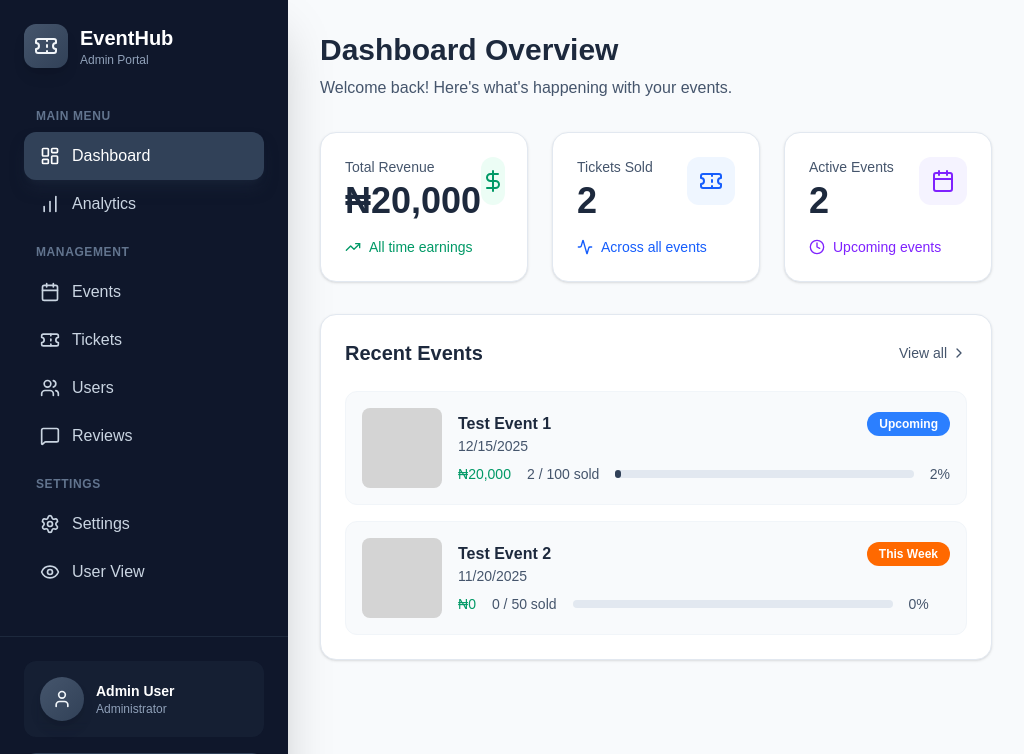
Test case: AdminPage › Analytics View › should display event performance data
Note: Navigate to analytics view
Click the button "Analytics" at point(144, 204), box [24,180,264,228]
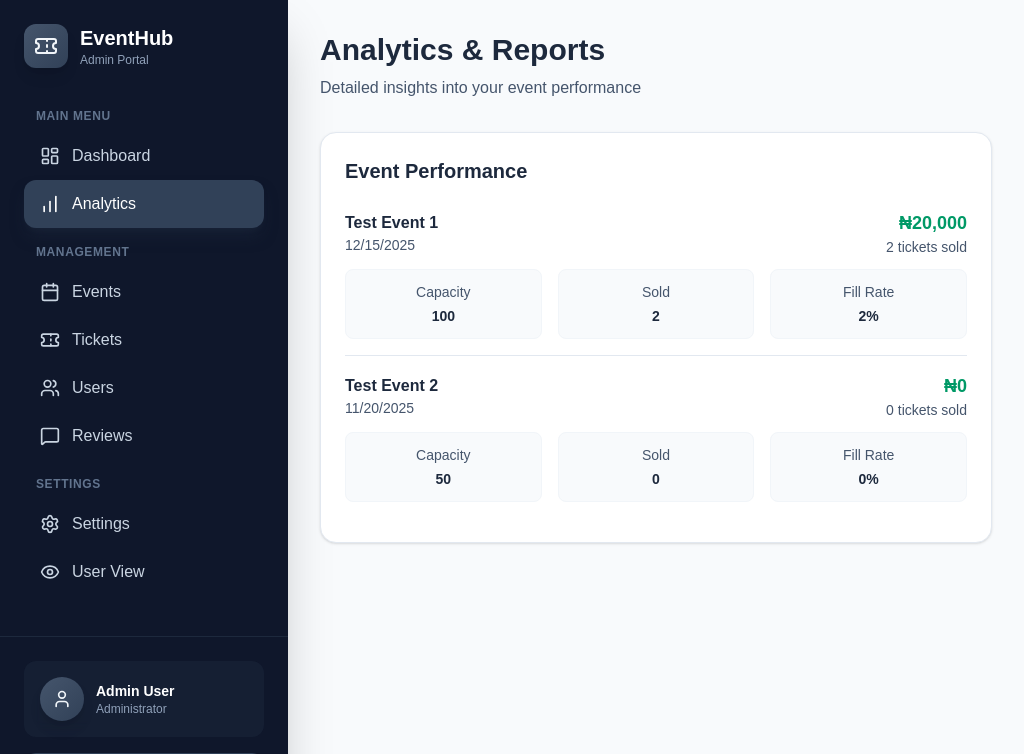
Expected: the heading "Test Event 1" is shown, [345,211,438,235]
Now the heading "Event Performance" is shown, box [345,160,527,182]
